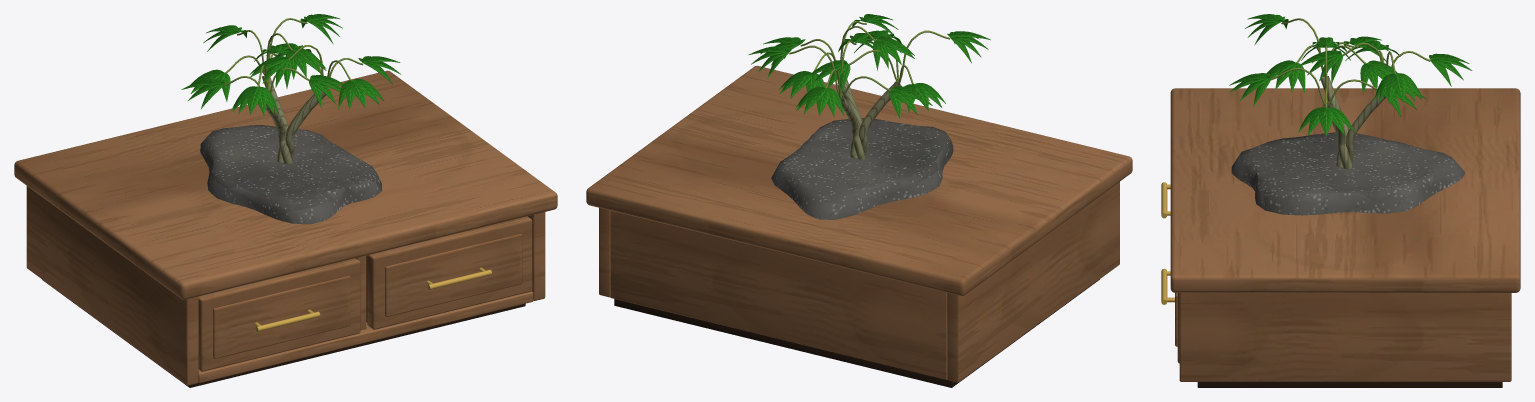
File: tilldesk.glb
3 views of the same model, side by side, from view 1: azimuth 30°, elevation 25°; view 2: azimuth 150°, elevation 25°; view 3: azimuth 270°, elevation 25° (orthographic). The views are drawn at different scales.
Visible parts, largest first — view 1: DeskMat, DeskMatSide-1, CatStone, DeskMatDrawer1Panel, DeskMatDrawer0Panel, DeskMatDrawer1Front, DeskMatDrawer0Front, DeskMatBottom, DeskMatPlinth, DeskMatSide1, TreeTrunk0, TreeTrunk1 (+1 smaller); view 2: DeskMat, DeskMatBack, DeskMatSide-1, CatStone, DeskMatPlinth, DeskMatSide1, TreeTrunk1, TreeTrunk2; view 3: DeskMat, DeskMatSide1, CatStone, DeskMatPlinth, TreeTrunk2, TreeTrunk0, TreeTrunk1.
Boxes of the visible parts, <box> form: DeskMat: <box>14,70,557,299</box>; DeskMatSide-1: <box>26,186,198,385</box>; CatStone: <box>200,125,382,224</box>; DeskMatDrawer1Panel: <box>385,233,522,316</box>; DeskMatDrawer0Panel: <box>213,275,350,358</box>; DeskMatDrawer1Front: <box>367,216,532,329</box>; DeskMatDrawer0Front: <box>198,258,360,371</box>; DeskMatBottom: <box>198,291,533,382</box>; DeskMatPlinth: <box>42,279,525,387</box>; DeskMatSide1: <box>527,212,545,300</box>; TreeTrunk0: <box>285,90,325,159</box>; TreeTrunk1: <box>265,104,292,164</box>; DeskMat: <box>586,65,1132,295</box>; DeskMatBack: <box>610,210,947,379</box>; DeskMatSide-1: <box>947,182,1119,382</box>; CatStone: <box>771,118,953,219</box>; DeskMatPlinth: <box>614,279,1099,387</box>; DeskMatSide1: <box>599,208,610,297</box>; TreeTrunk1: <box>859,81,901,155</box>; TreeTrunk2: <box>840,97,865,159</box>; DeskMat: <box>1170,88,1520,292</box>; DeskMatSide1: <box>1179,293,1511,381</box>; CatStone: <box>1231,132,1465,215</box>; DeskMatPlinth: <box>1197,382,1502,387</box>; TreeTrunk2: <box>1345,93,1385,163</box>; TreeTrunk0: <box>1322,103,1352,169</box>; TreeTrunk1: <box>1320,76,1348,167</box>.
Bounding box in the file's own units: 0.5 × 0.3342 × 0.4002.
Materials: 68 (8 with a texture image).
